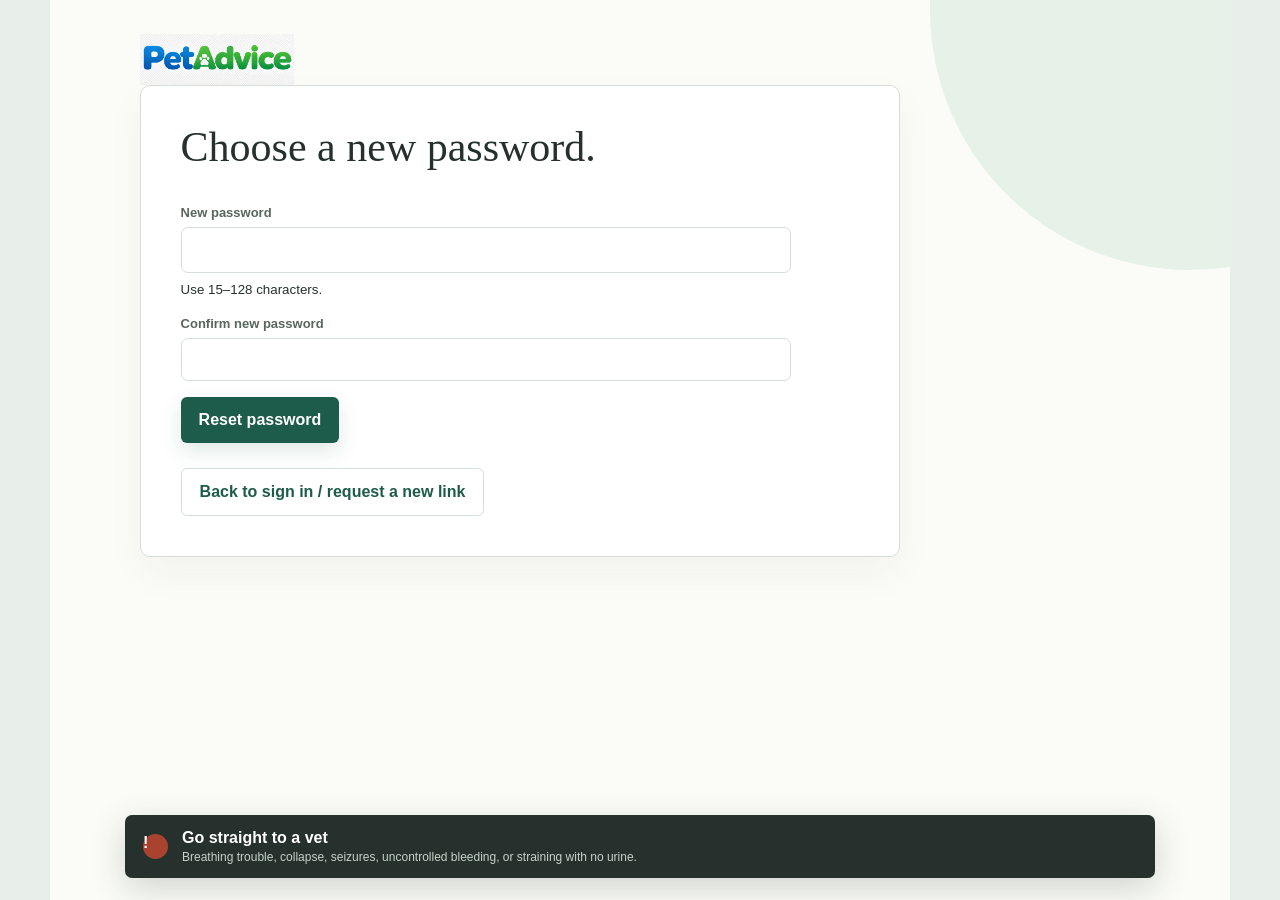
Scenario: password reset removes the link from the URL and requires matching passwords
Step 1. Type "a-new-long-passphrase" into the password field labelled "New password" → (486, 250), box [181,227,791,273]
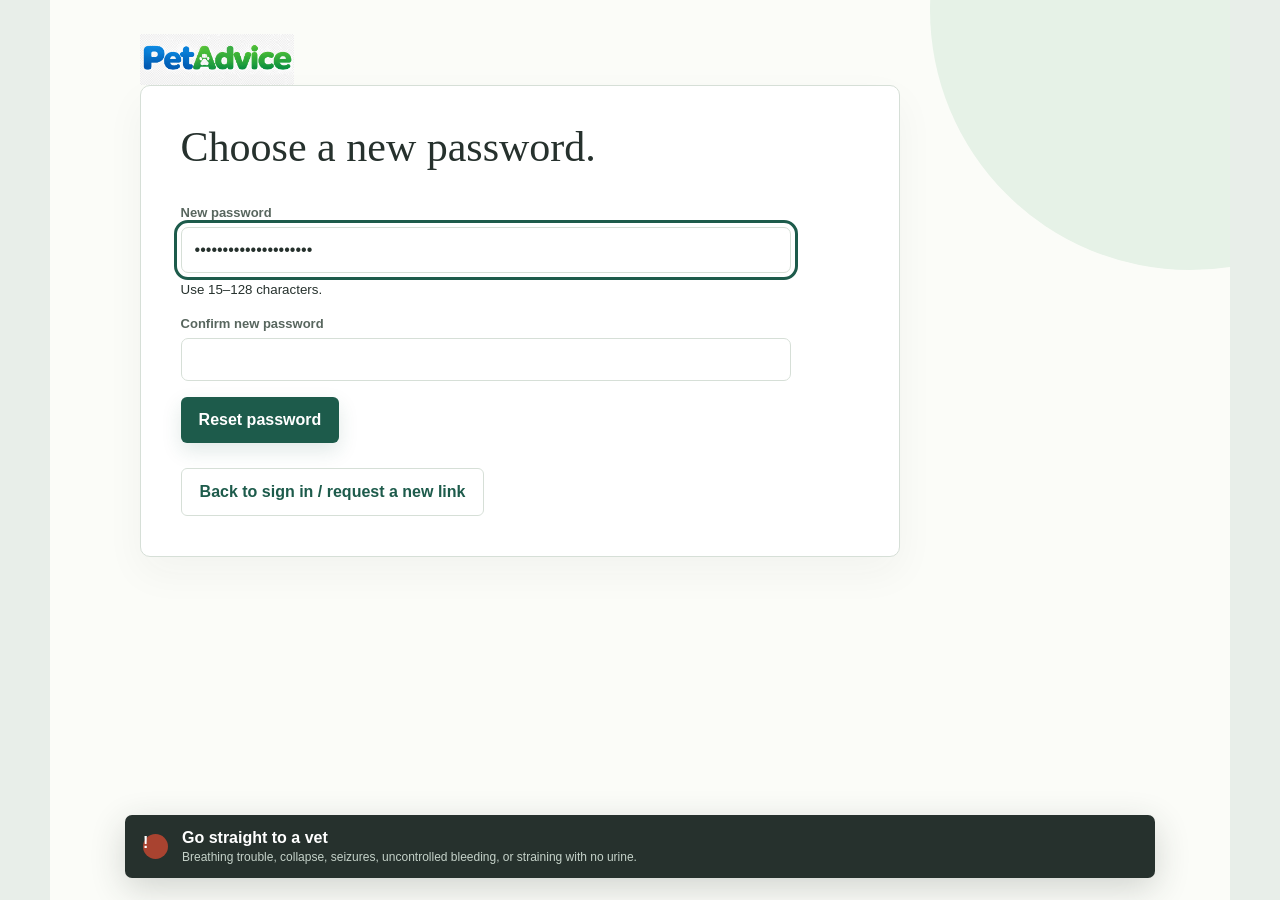
Step 2. Type "a-different-passphrase" into the password field labelled "Confirm new password" → (486, 360), box [181,338,791,381]
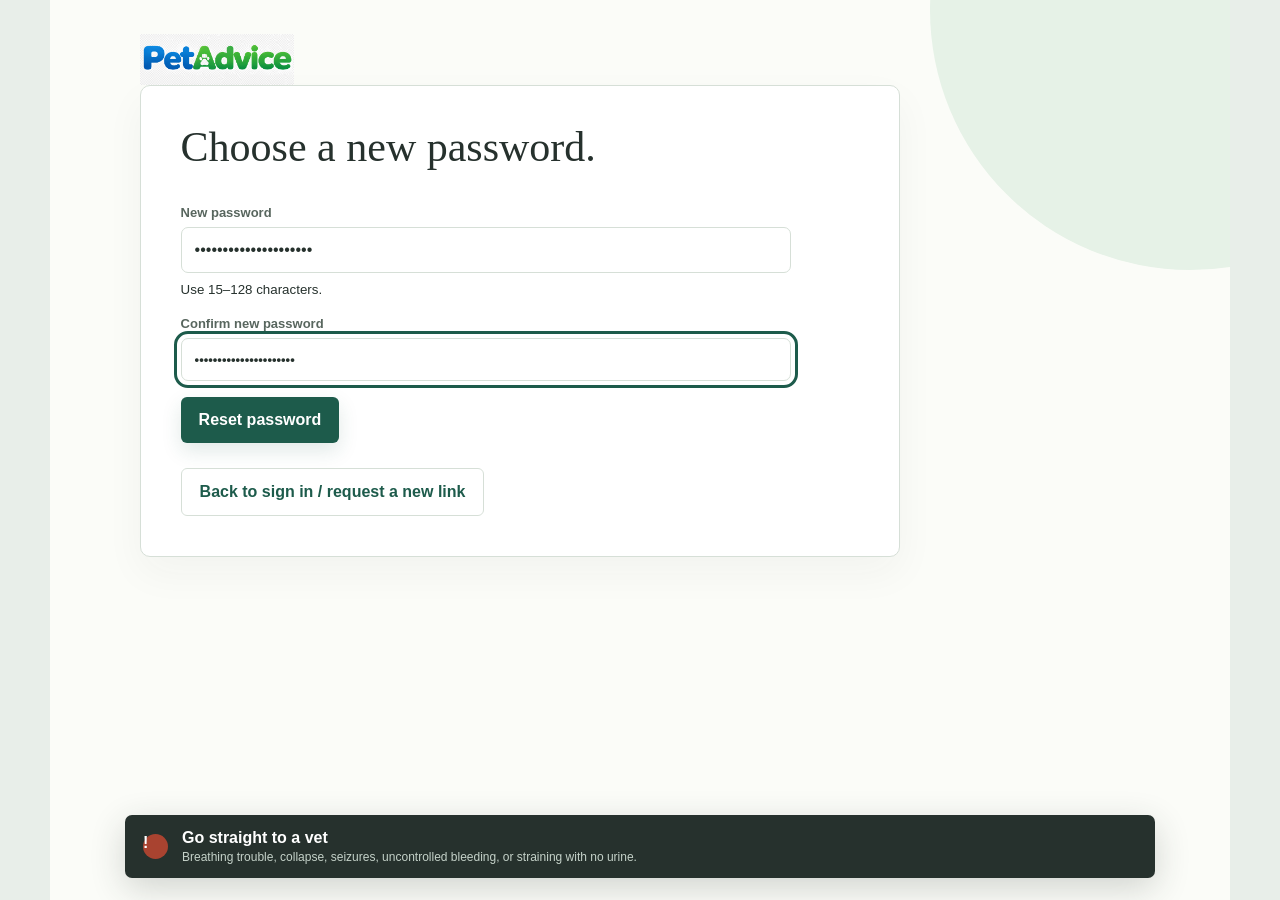
Step 3. Click the button "Reset password" → (260, 420), box [181,397,339,443]
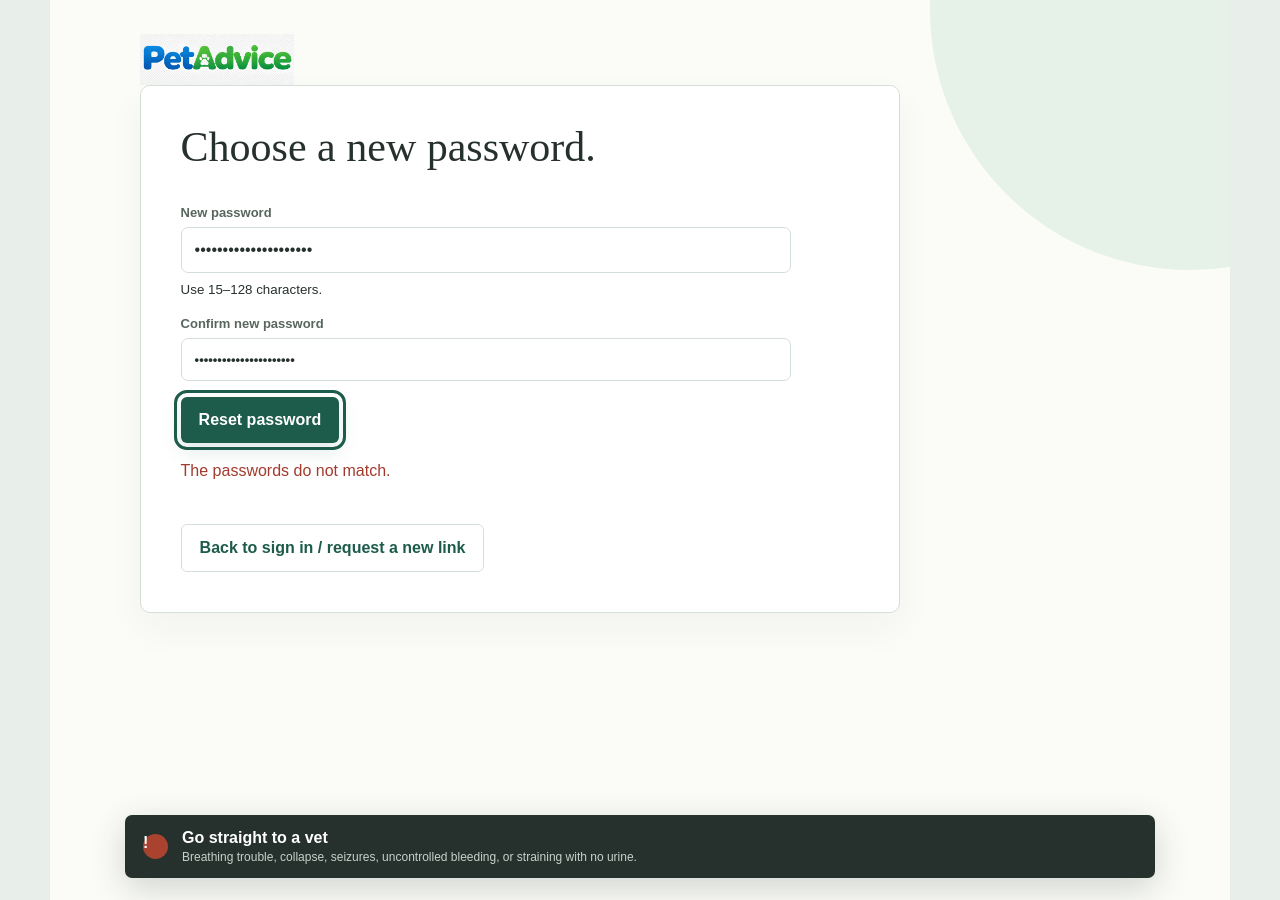
Check: the message reads "The passwords do not match.", box [181,462,390,479]
Step 4. Type "a-new-long-passphrase" into the password field labelled "Confirm new password" → (486, 360), box [181,338,791,381]
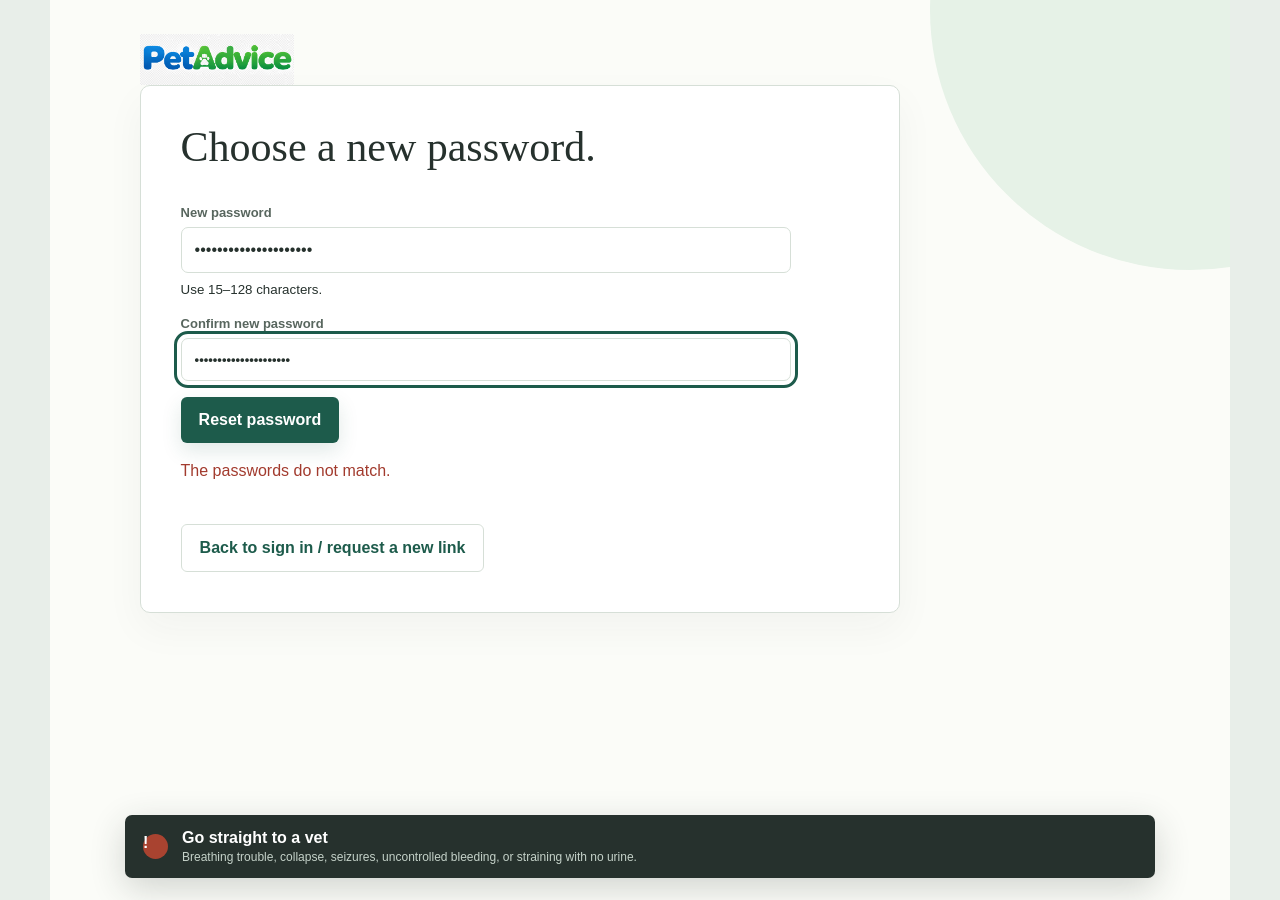
Step 5. Click the button "Reset password" → (260, 420), box [181,397,339,443]
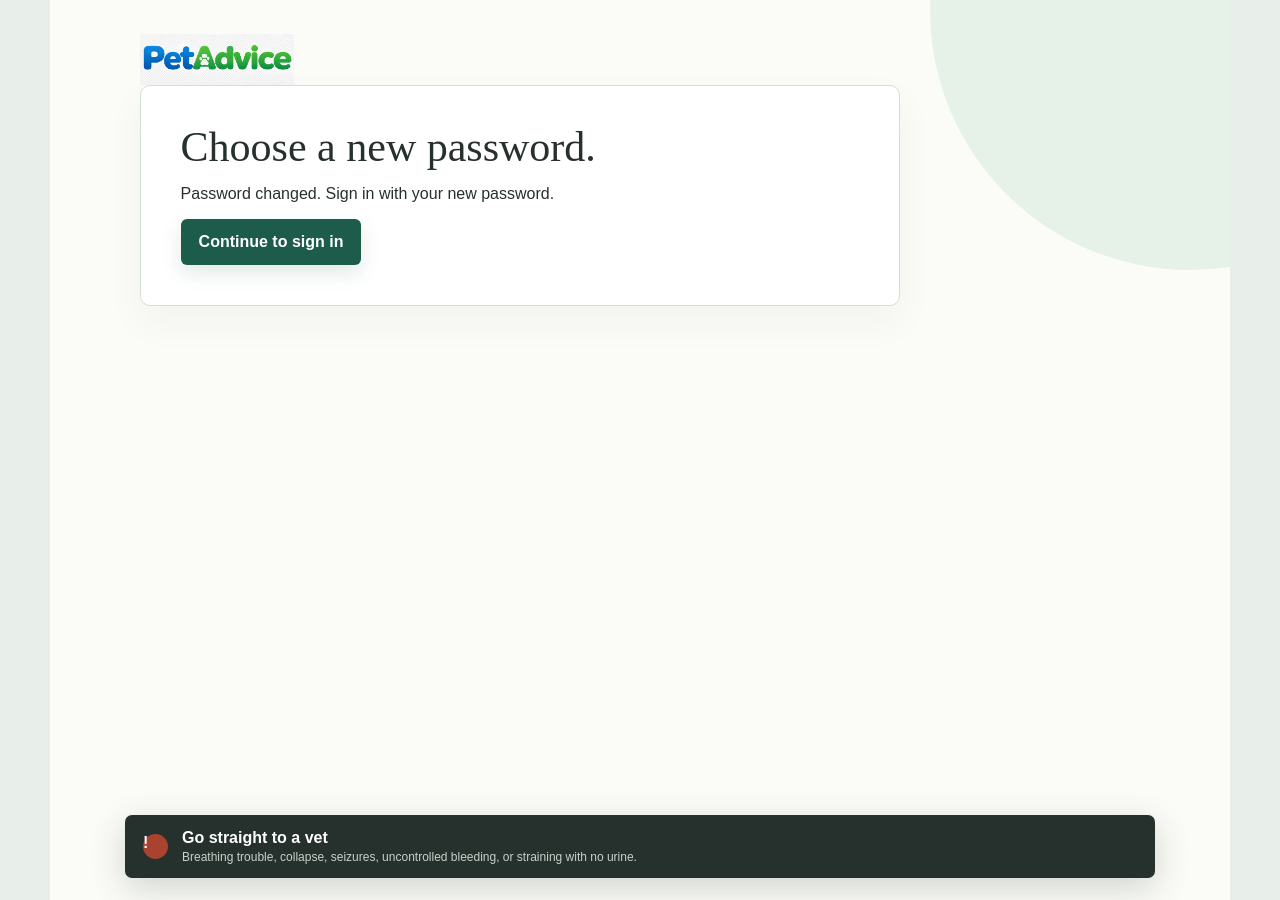
Check: the text "Password changed. Sign in with your new password." is shown, box [181,185,554,202]
